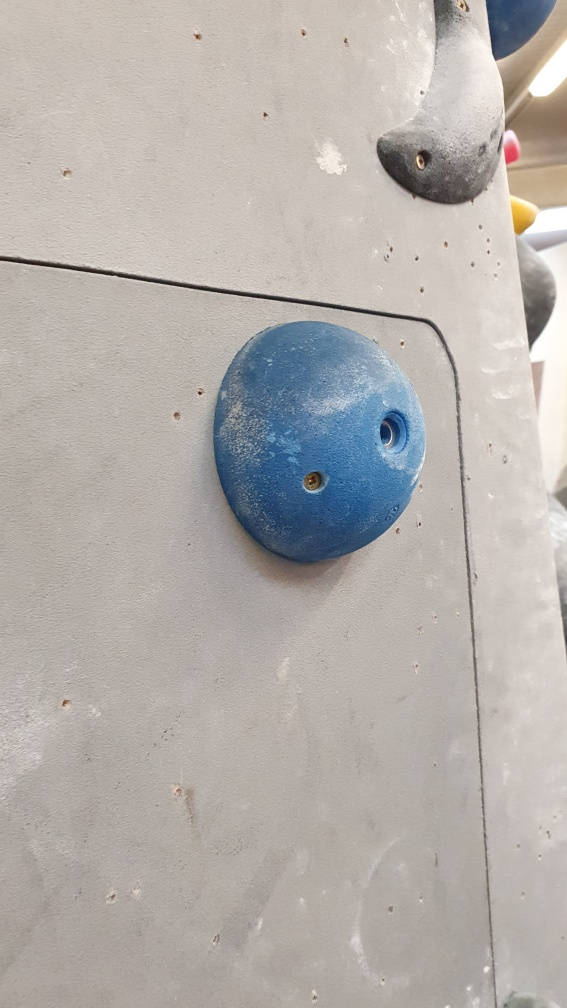Sloper: (210, 317, 429, 570)
